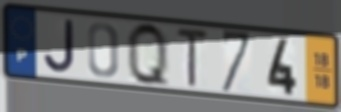0: (86, 20, 121, 79)
4: (265, 37, 299, 98)
7: (220, 28, 254, 95)
J: (41, 17, 77, 75)
Q: (125, 19, 173, 91)
T: (175, 25, 211, 89)
